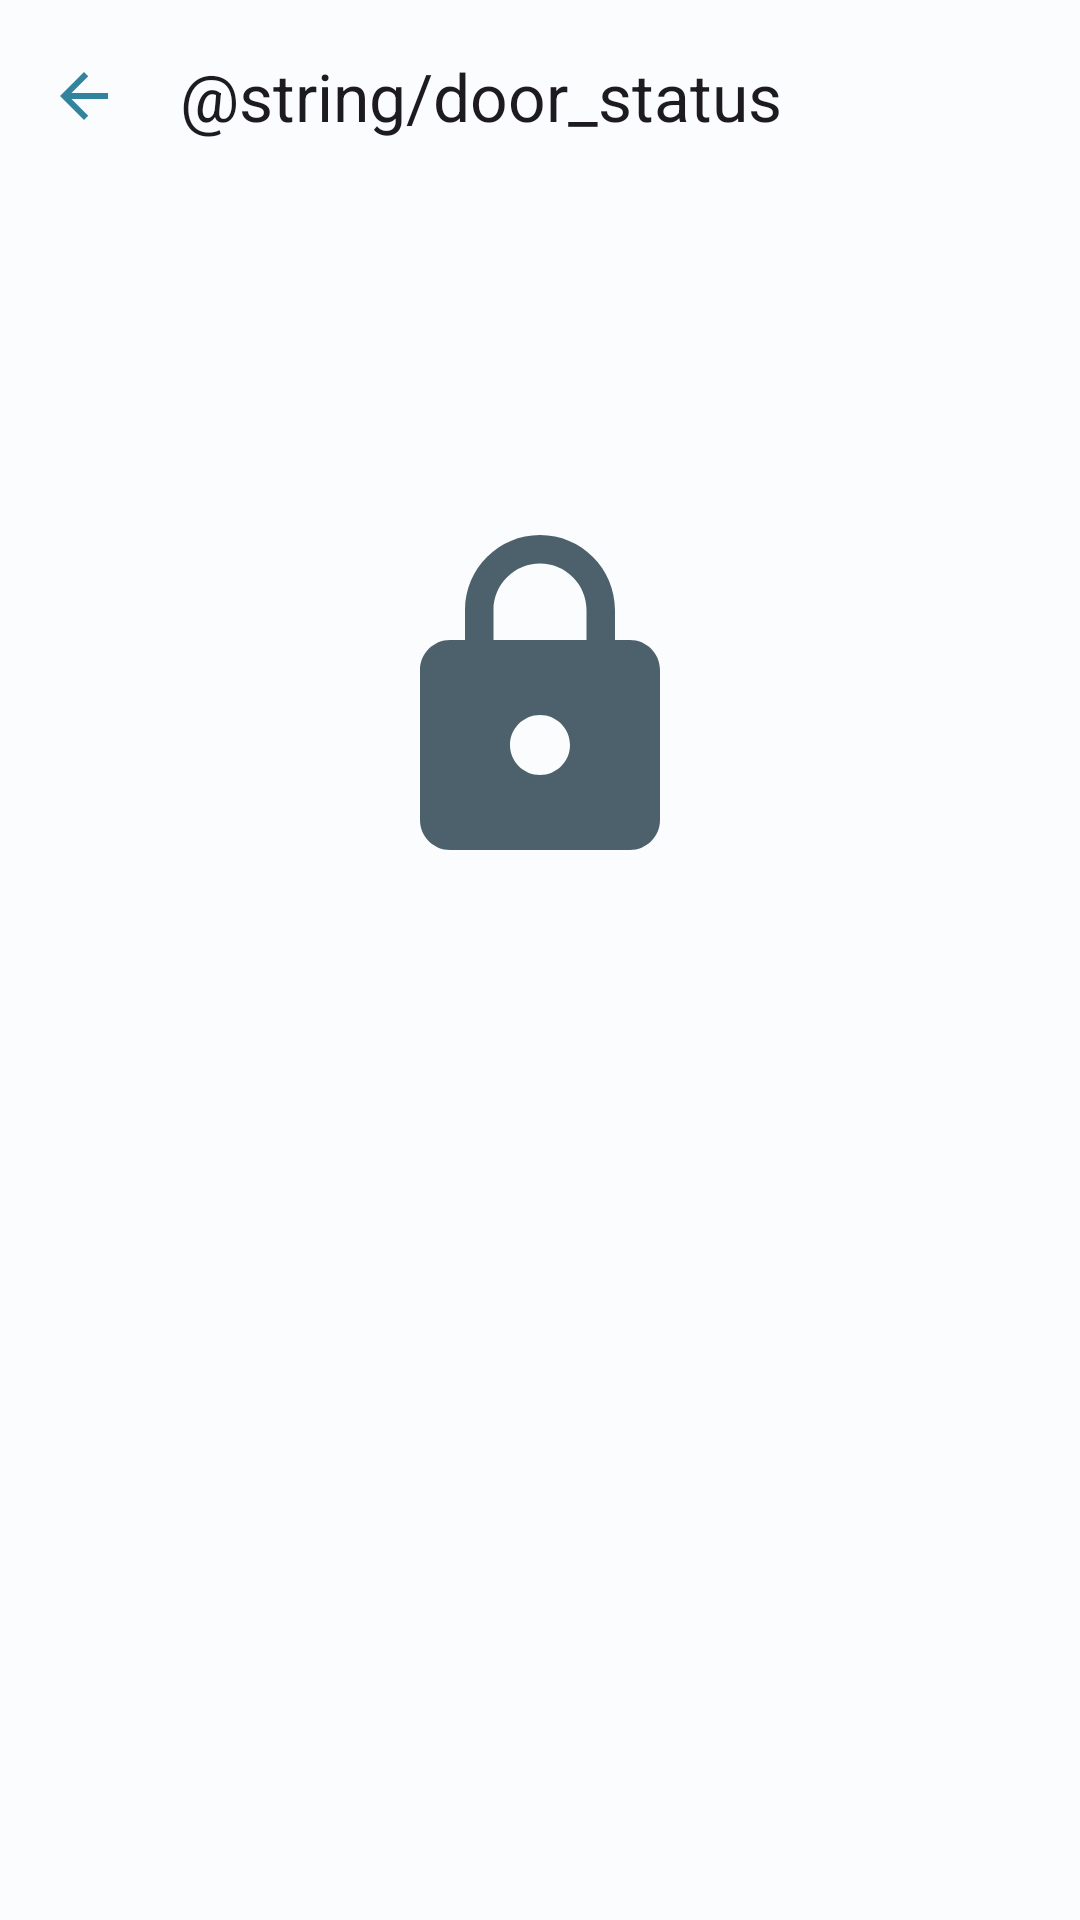

Screen size 1080x1920. Icon name, then its box in pixels as (x1, y1, x2, y2):
lock: (420, 535, 660, 850)
